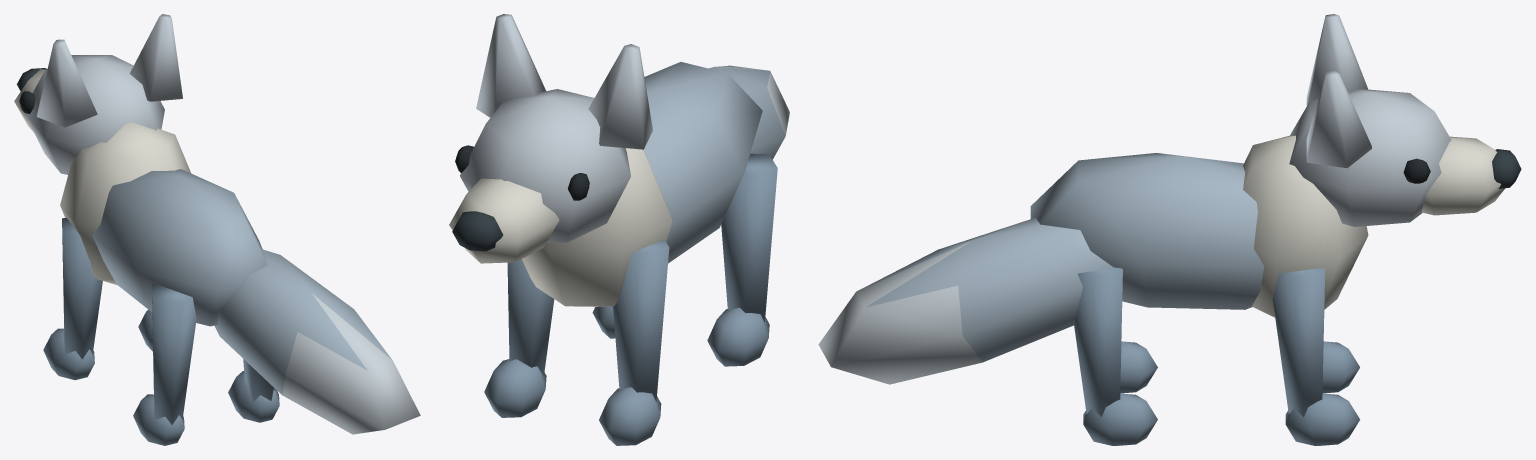
The model's file is arctic-fox-low.glb.
3 renders of one model, left to right at view 1: azimuth 30°, elevation 25°; view 2: azimuth 150°, elevation 25°; view 3: azimuth 270°, elevation 25°, orthographic. The views are drawn at different scales.
Visible parts, largest first — view 1: arctic-fox-low; view 2: arctic-fox-low; view 3: arctic-fox-low.
Part boxes in pixels (<box>): arctic-fox-low: <box>14,14,420,445</box>; arctic-fox-low: <box>449,14,789,445</box>; arctic-fox-low: <box>818,14,1521,445</box>.
Size of the model in its own units: 0.3768 by 0.7581 by 1.29.
